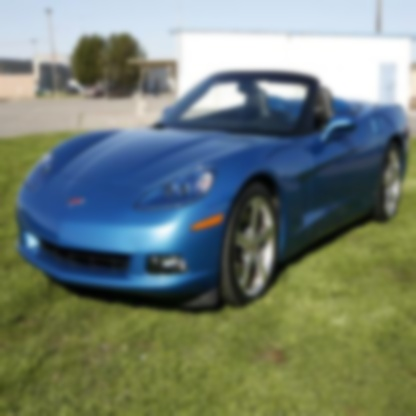Vehicle: (15, 71, 410, 312)
